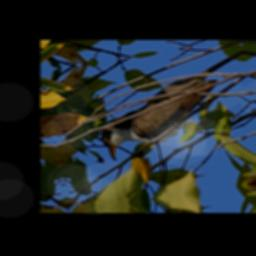Cuckoo: (92, 73, 234, 181)
